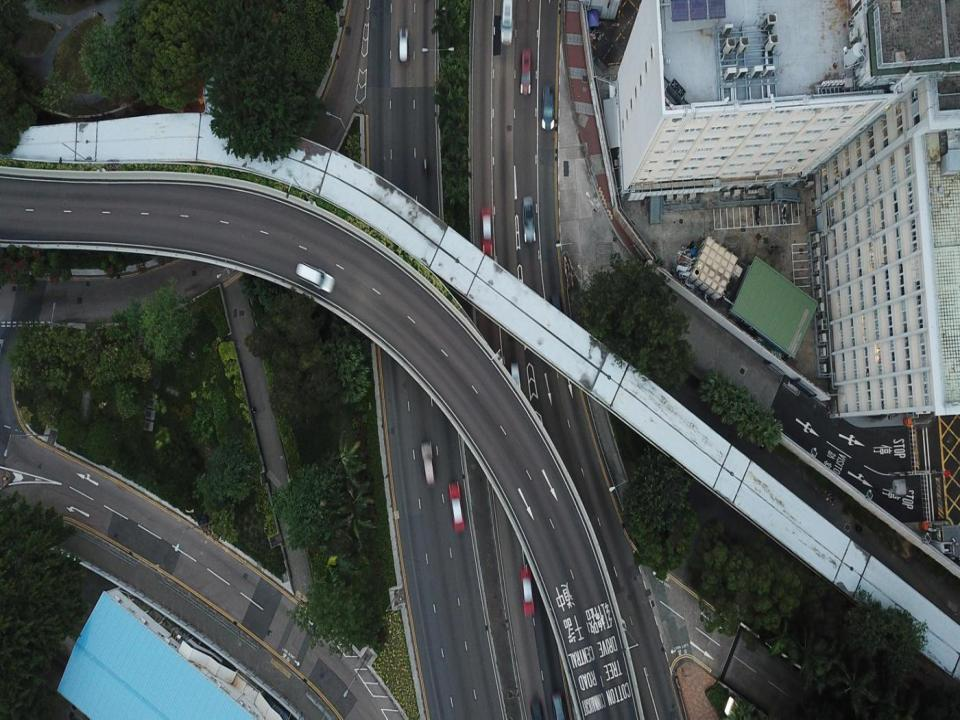car: (447, 482, 468, 532), (520, 195, 539, 240), (422, 440, 438, 489), (520, 566, 535, 618), (508, 365, 523, 413), (480, 204, 494, 255), (542, 86, 554, 131), (550, 693, 567, 719), (530, 695, 546, 719), (398, 28, 408, 66)
van: (296, 263, 335, 292), (501, 0, 514, 46), (519, 48, 532, 93)
